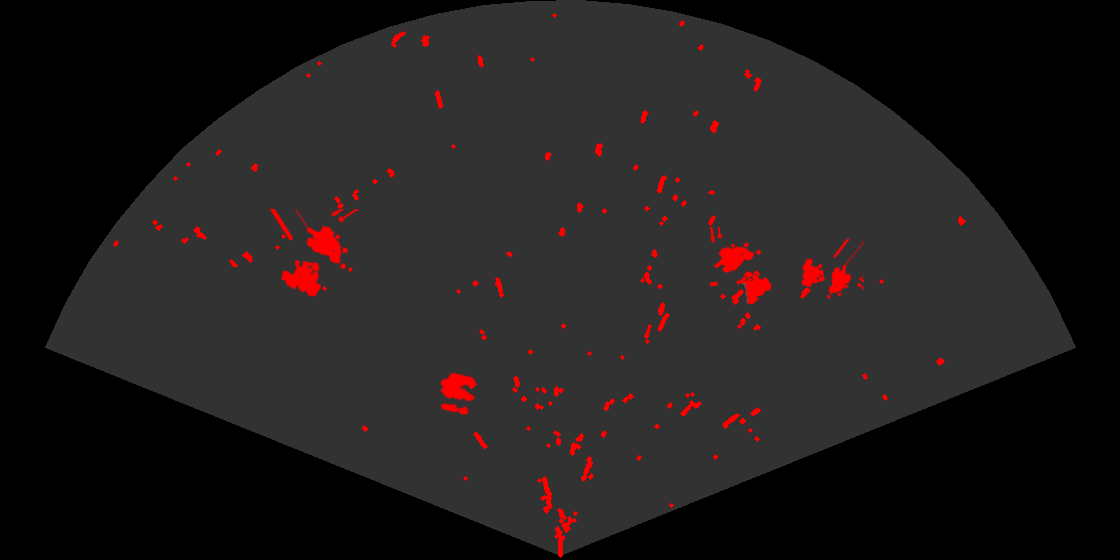ball: (438, 371, 479, 417)
cage: (268, 209, 361, 298), (710, 227, 773, 306), (800, 239, 864, 300)
